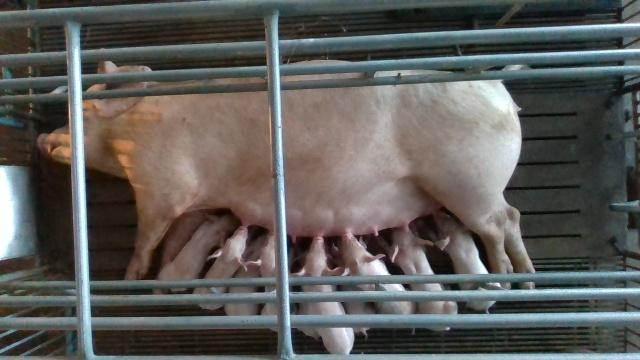piglet: (375, 224, 459, 333), (339, 233, 418, 335), (427, 207, 502, 313), (291, 233, 355, 355), (157, 211, 235, 293), (193, 224, 249, 309), (225, 235, 265, 315), (333, 267, 376, 339), (247, 233, 277, 334)
sow-sleep-lactate: (36, 48, 535, 295)
